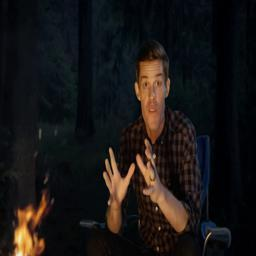fire: (13, 190, 47, 256)
